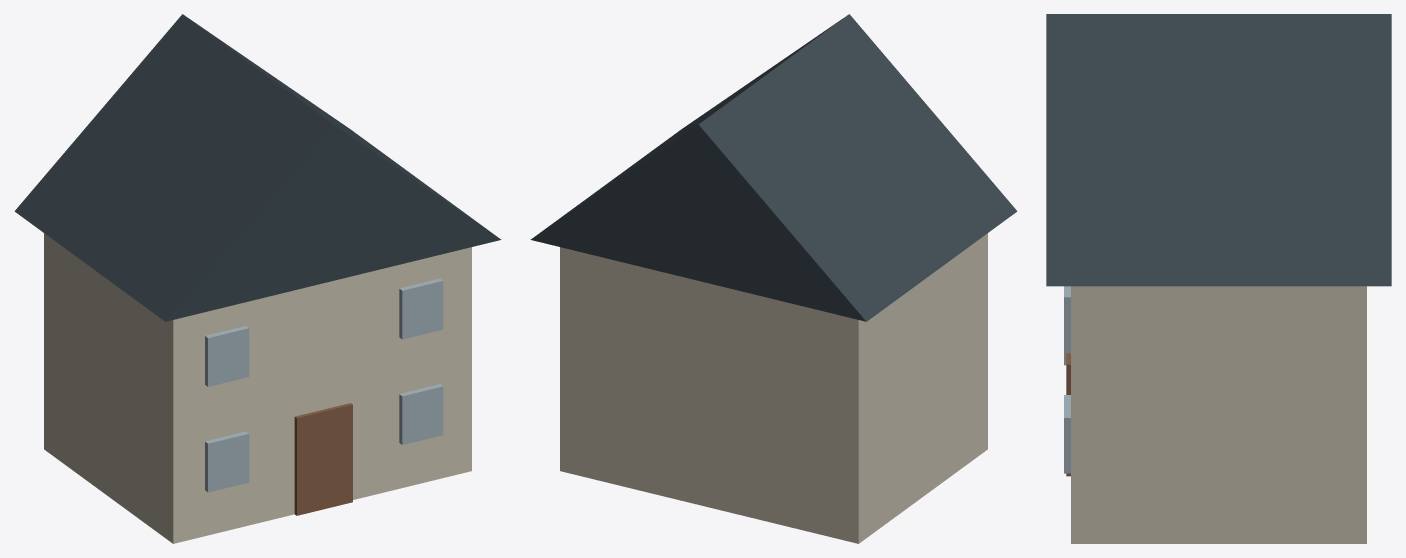
File: house.glb
The picture shows the model from 3 angles, left to right: view 1: azimuth 30°, elevation 25°; view 2: azimuth 150°, elevation 25°; view 3: azimuth 270°, elevation 25°; orthographic projection. The views are drawn at different scales.
Visible parts, largest first — view 1: house; view 2: house; view 3: house.
Boxes of the visible parts, x1,y1,x2,y2 form: house: (14,14,501,543); house: (530,14,1017,543); house: (1046,14,1391,543).
Size of the model in its own units: 9 by 10 by 7.
